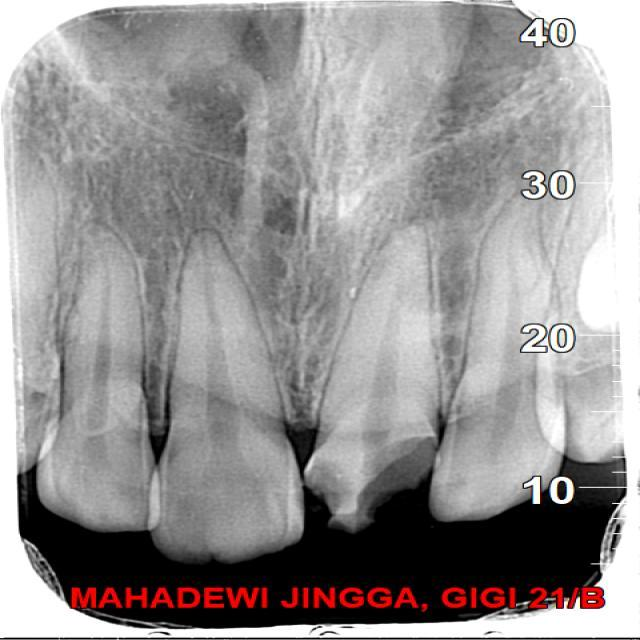individual-tooth-8tto: (147, 228, 306, 566), (431, 195, 565, 517), (305, 223, 440, 530), (36, 228, 158, 533)
